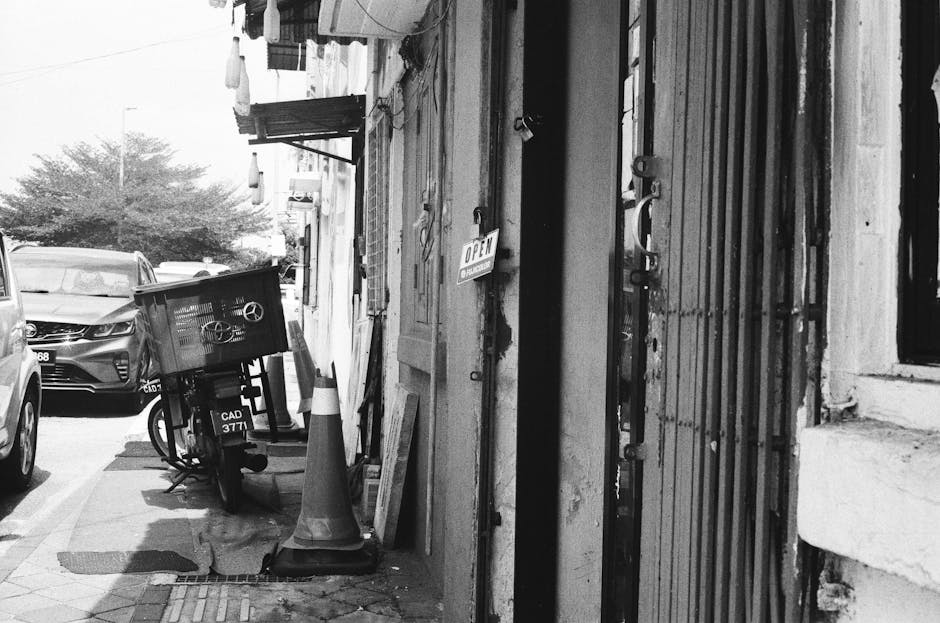traffic_cone: (266, 365, 379, 577), (287, 319, 318, 438), (259, 353, 301, 434), (287, 319, 317, 414)
